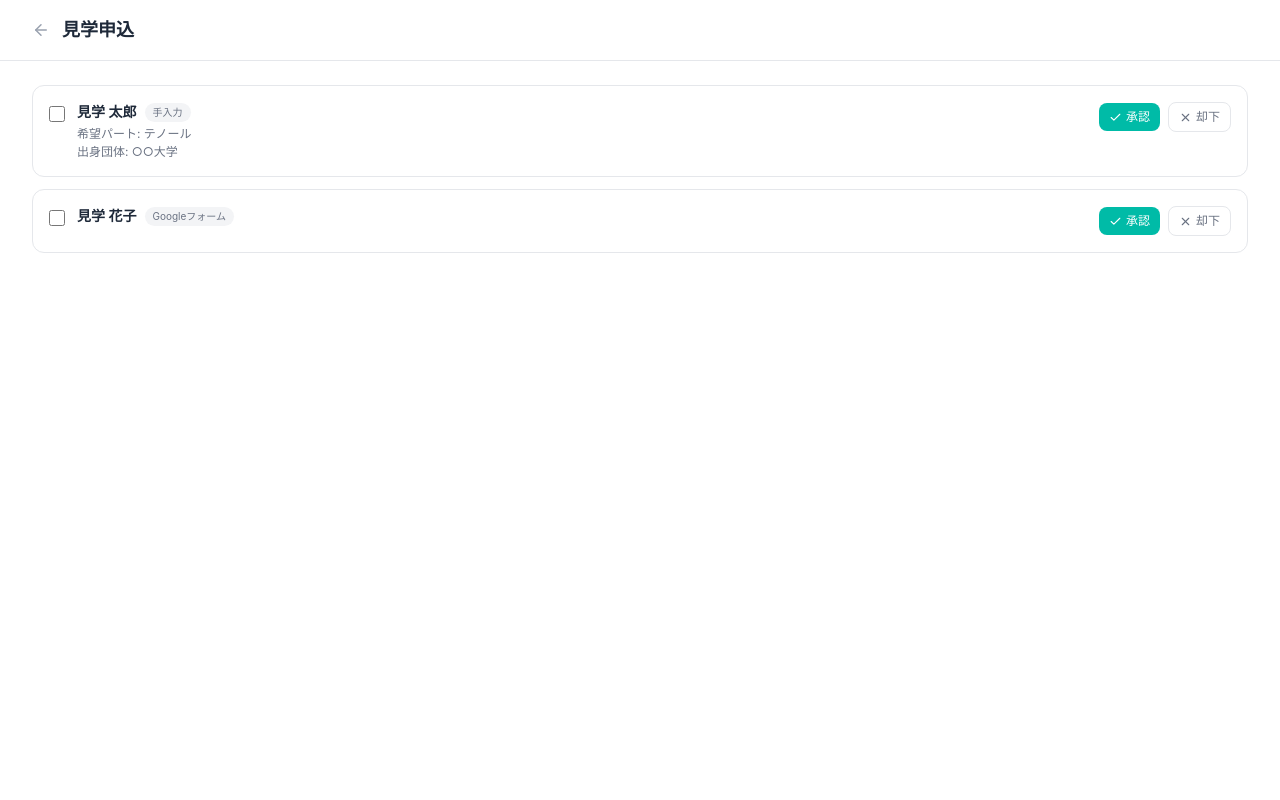
VisitorApplicationsPage › 却下ボタンで該当行が消える
The image size is (1280, 800).
Expected: the text "見学 太郎" is shown, x1=77 y1=102 x2=136 y2=122
Click the button "却下" in the row of "テノール": (1200, 117) x1=1168 y1=102 x2=1231 y2=132
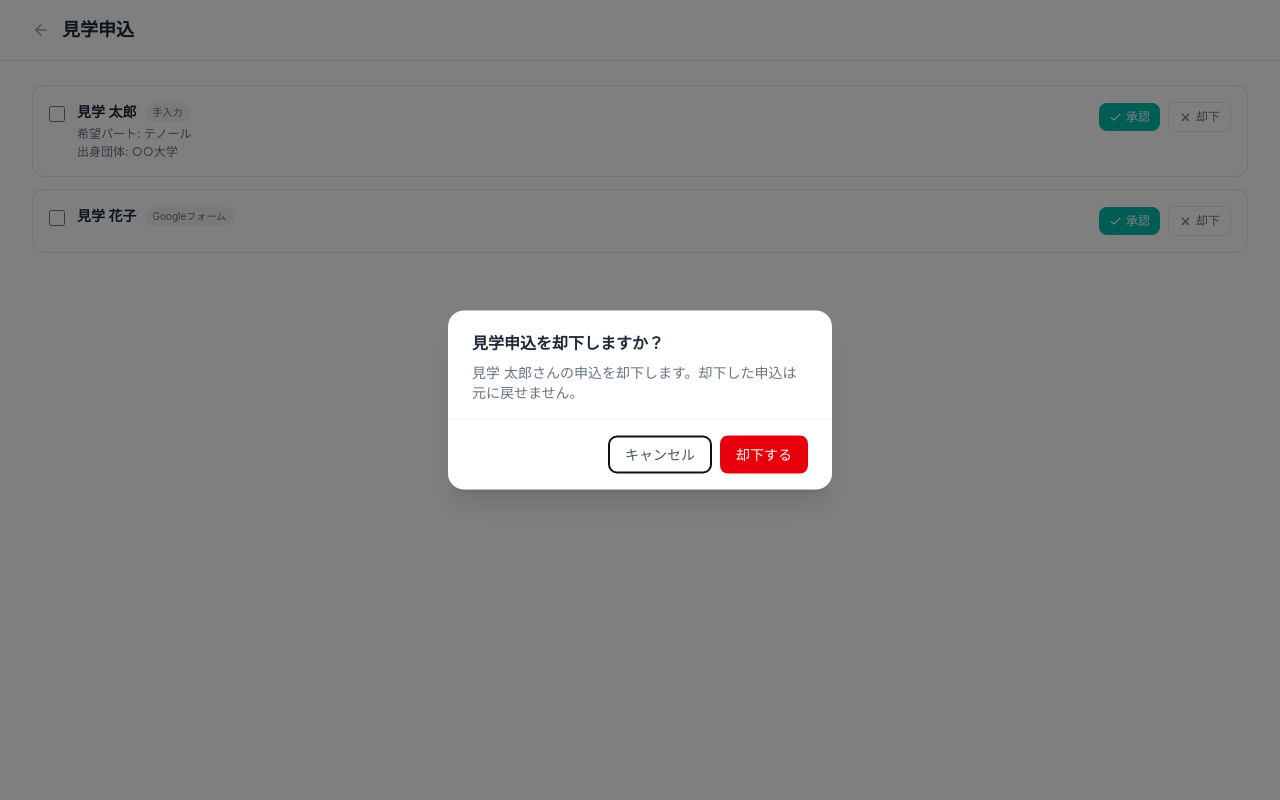
Expected: the dialog "見学申込を却下しますか？" shows "見学 太郎さんの申込を却下します", x1=472 y1=364 x2=796 y2=400
Click the button "却下する": (764, 454) x1=720 y1=436 x2=808 y2=474
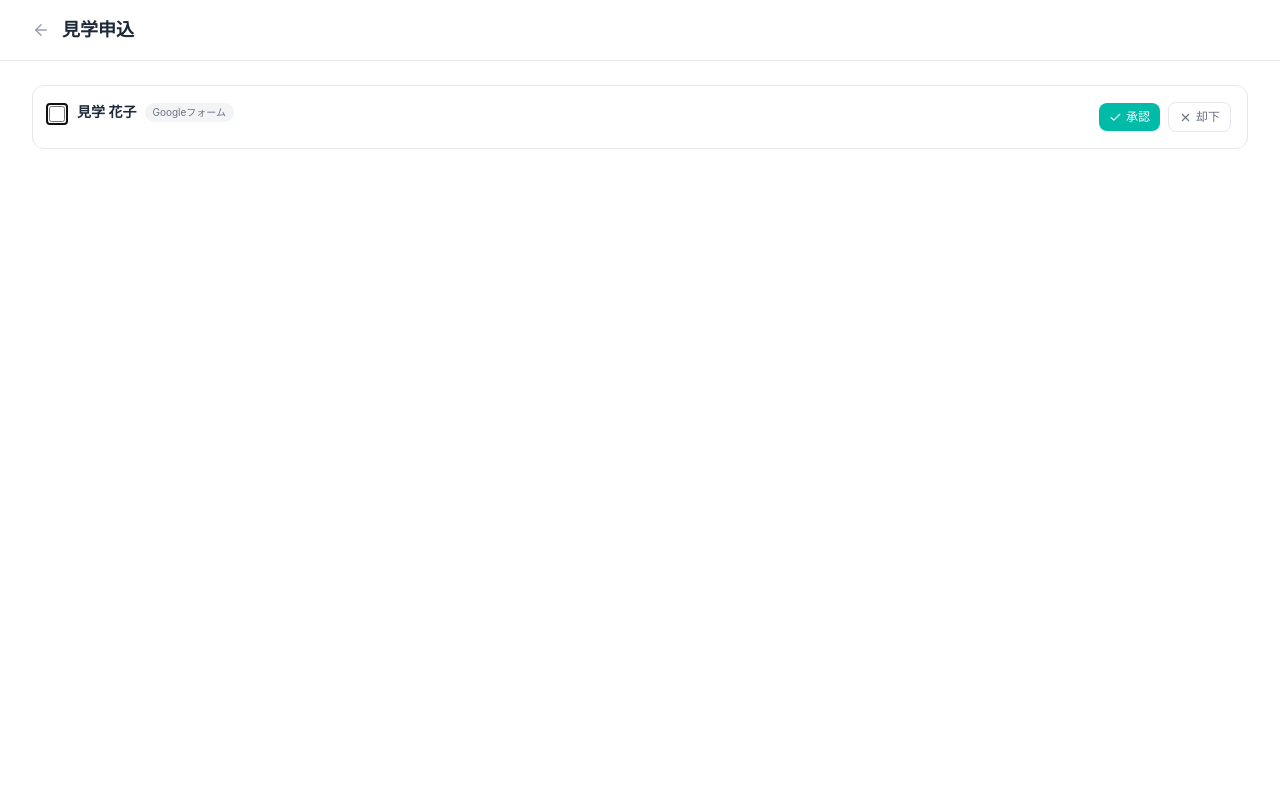
Expected: the text "見学 太郎" is gone
Expected: the dialog is gone
